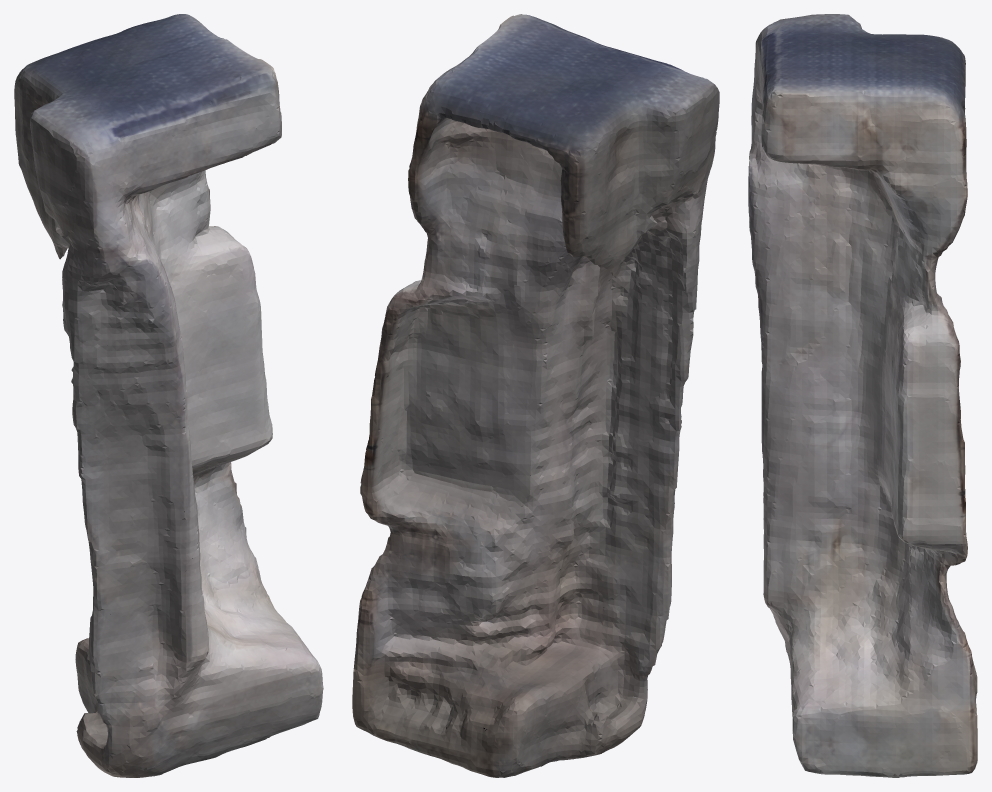
Rendered from 0_rgba.obj.
3 renders of one model, left to right at view 1: azimuth 30°, elevation 25°; view 2: azimuth 150°, elevation 25°; view 3: azimuth 270°, elevation 25°, orthographic. The views are drawn at different scales.
Bounding box in the file's own units: 0.8275 × 1.97 × 0.6091.
1 material, 1 textured.
